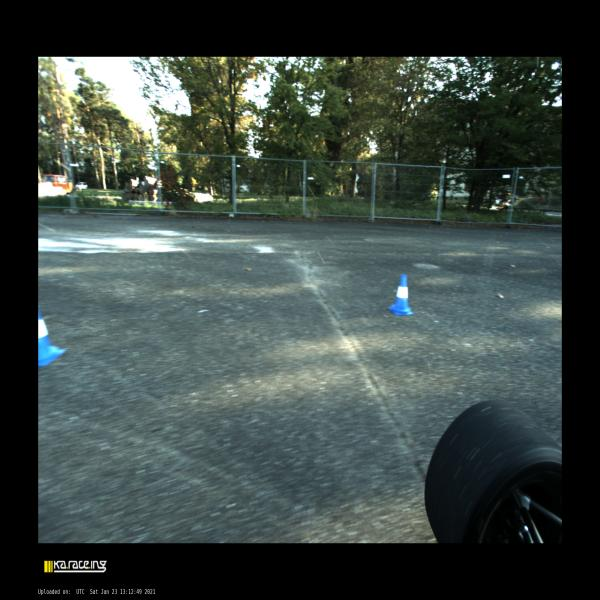blue_cone: (38, 305, 67, 367), (388, 273, 414, 315)
